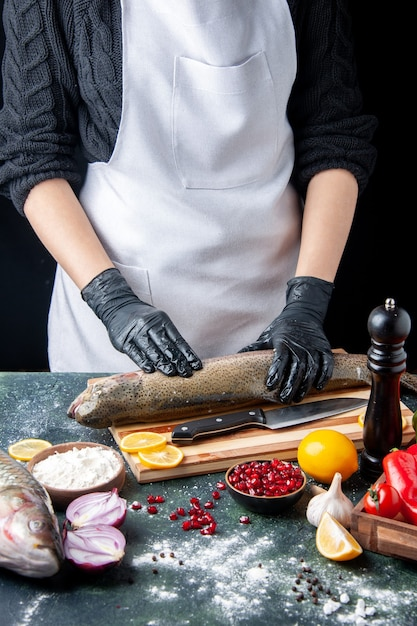knife: (165, 398, 370, 445)
